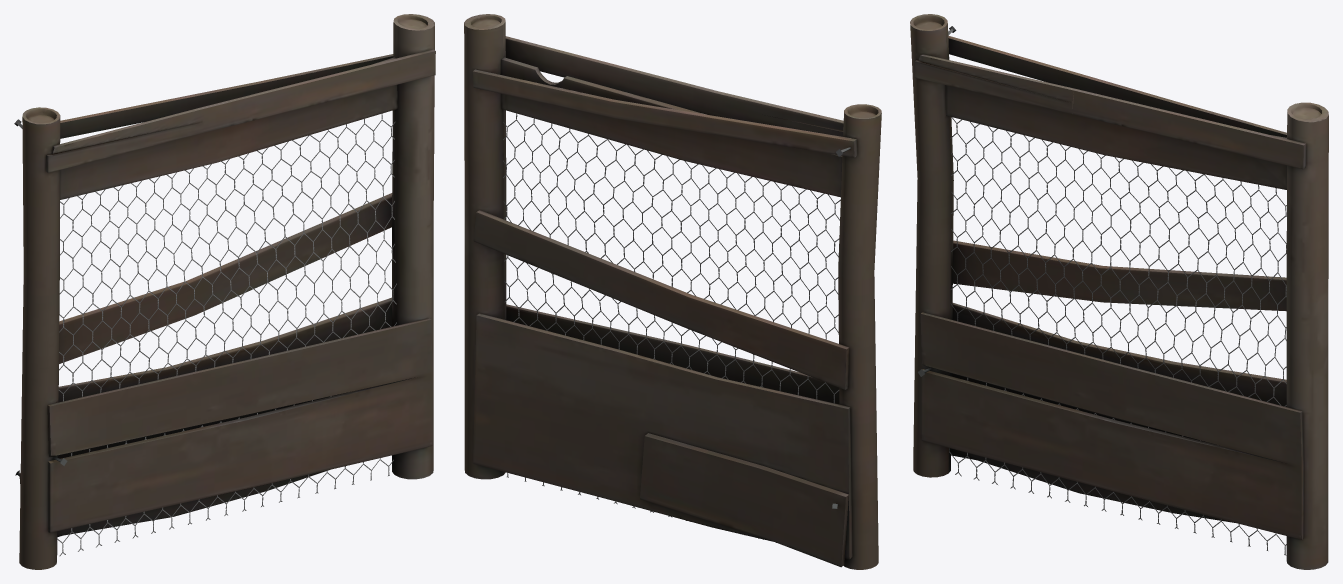
3 renders of one model, left to right at view 1: azimuth 30°, elevation 25°; view 2: azimuth 150°, elevation 25°; view 3: azimuth 330°, elevation 25°, orthographic.
Parts seen in each view (by area): view 1: body0_model0_lod0_mesh0, body0_model0_lod0_mesh1; view 2: body0_model0_lod0_mesh0, body0_model0_lod0_mesh1; view 3: body0_model0_lod0_mesh0, body0_model0_lod0_mesh1.
Part boxes in pixels (bbox=[...]): body0_model0_lod0_mesh0: bbox=[14, 14, 435, 569]; body0_model0_lod0_mesh1: bbox=[57, 113, 396, 556]; body0_model0_lod0_mesh0: bbox=[464, 14, 881, 569]; body0_model0_lod0_mesh1: bbox=[503, 113, 840, 542]; body0_model0_lod0_mesh0: bbox=[910, 14, 1328, 569]; body0_model0_lod0_mesh1: bbox=[949, 117, 1286, 555].
Size of the model in its own units: 128 by 135 by 22.95.
2 materials, 2 textured.
